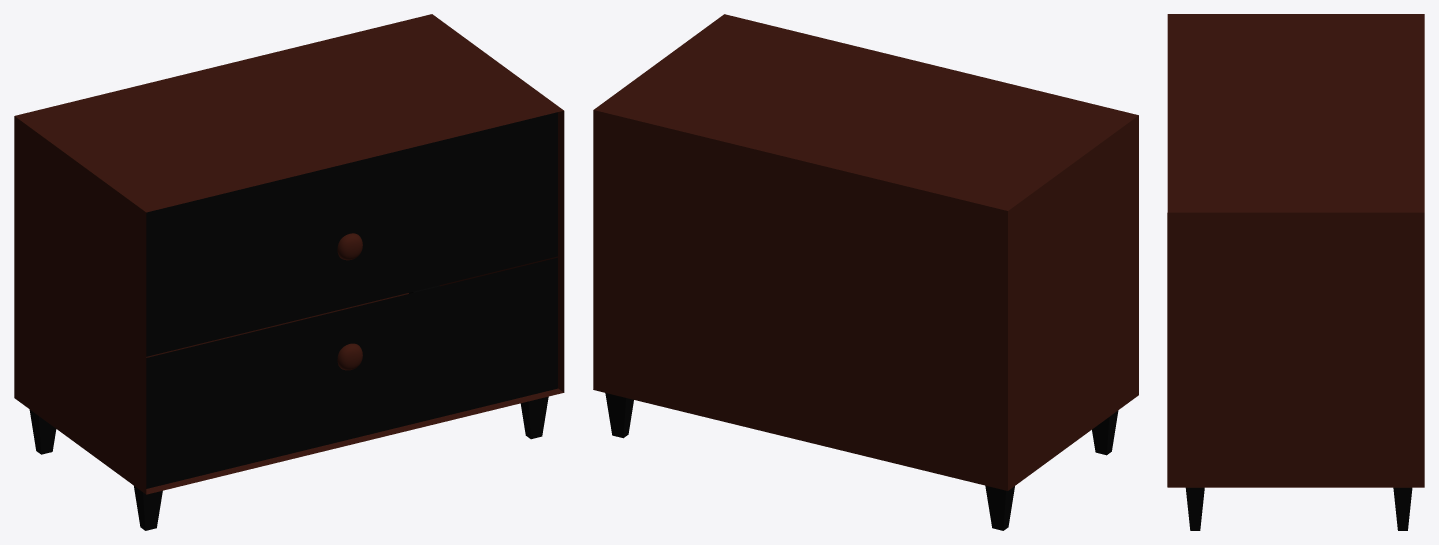
File: Mesa de Cabeceira FBX.fbx
3 views of the same model, side by side, from view 1: azimuth 30°, elevation 25°; view 2: azimuth 150°, elevation 25°; view 3: azimuth 270°, elevation 25° (orthographic). The views are drawn at different scales.
Parts seen in each view (by area): view 1: Cube.005; view 2: Cube.005; view 3: Cube.005.
Boxes of the visible parts, <box> form: Cube.005: <box>14,14,564,530</box>; Cube.005: <box>593,14,1138,530</box>; Cube.005: <box>1167,14,1424,530</box>.
Bounding box in the file's own units: 374 × 283 × 204.
